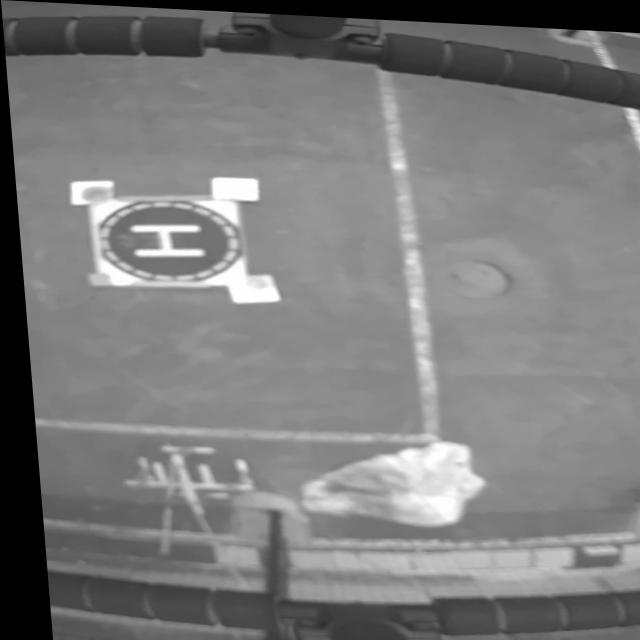Helipad: (121, 222, 204, 257)
